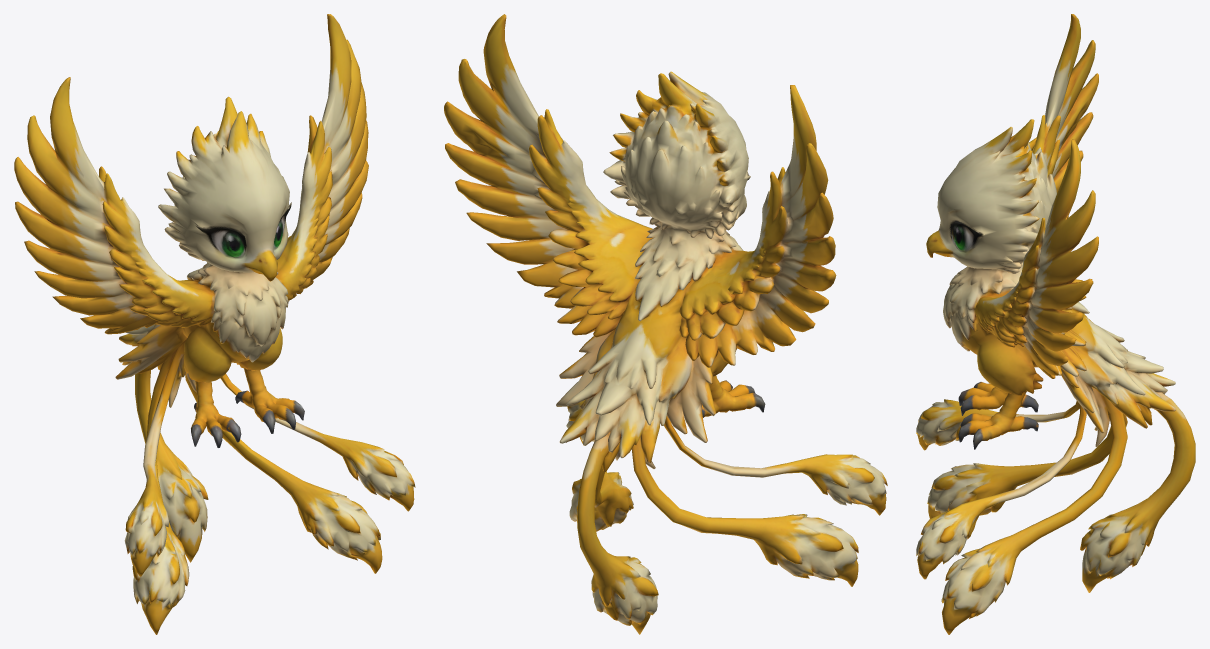
File: alicanto.glb
3 views of the same model, side by side, from view 1: azimuth 30°, elevation 25°; view 2: azimuth 150°, elevation 25°; view 3: azimuth 270°, elevation 25° (orthographic). The views are drawn at different scales.
Parts seen in each view (by area): view 1: estacion; view 2: estacion; view 3: estacion.
Boxes of the visible parts, box(x1,y1,x2,y2) form: estacion: box(14, 14, 415, 634); estacion: box(444, 14, 887, 634); estacion: box(916, 14, 1195, 634).
Bounding box in the file's own units: 3.65 × 5.2 × 2.55.
Materials: 1 (1 with a texture image).
